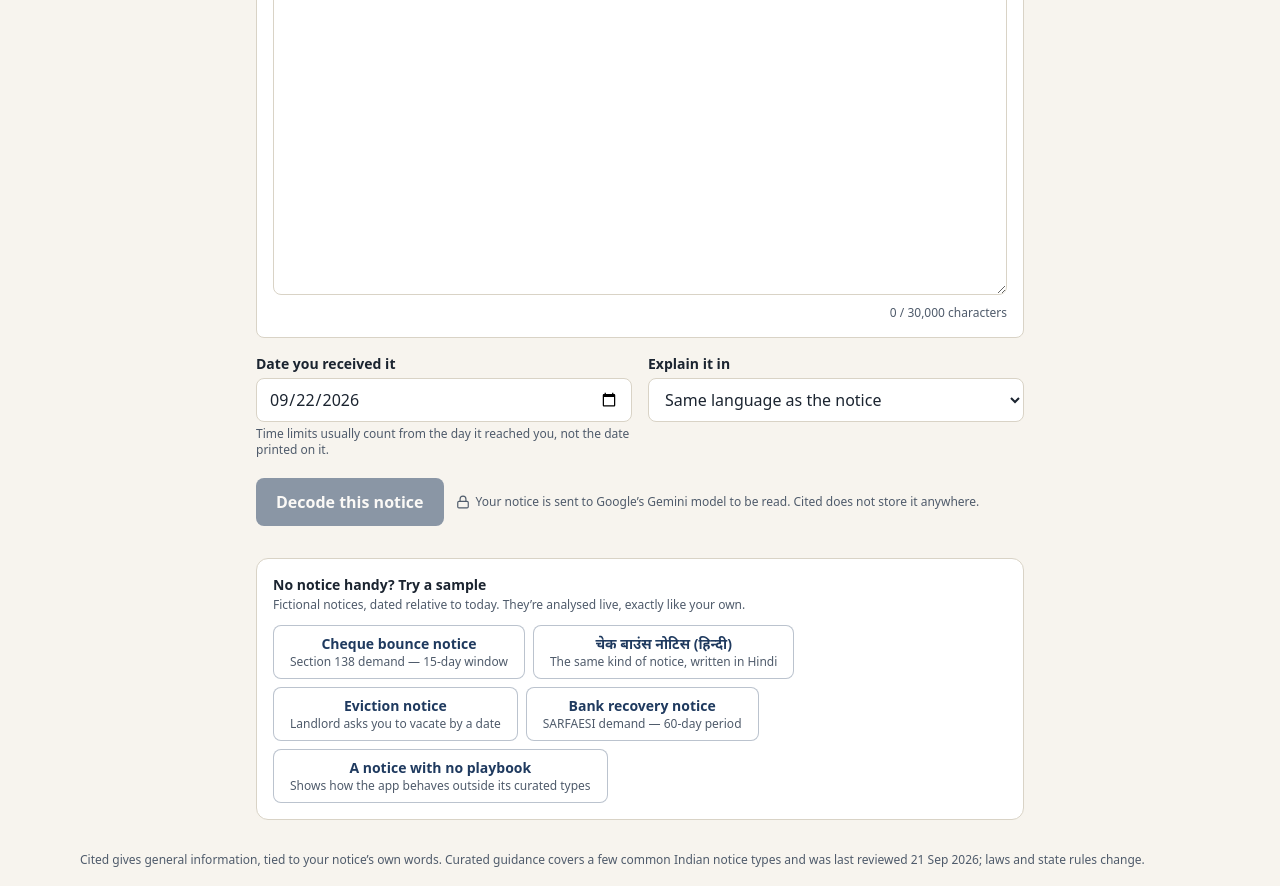
Test: Ask about this notice › enables Ask only for a real question, and submits on Enter
The width and height of the screenshot is (1280, 886).
(page scrolled)
Click the button "Cheque bounce notice Section 138 demand — 15-day window" at (399, 652), box [273, 625, 525, 679]
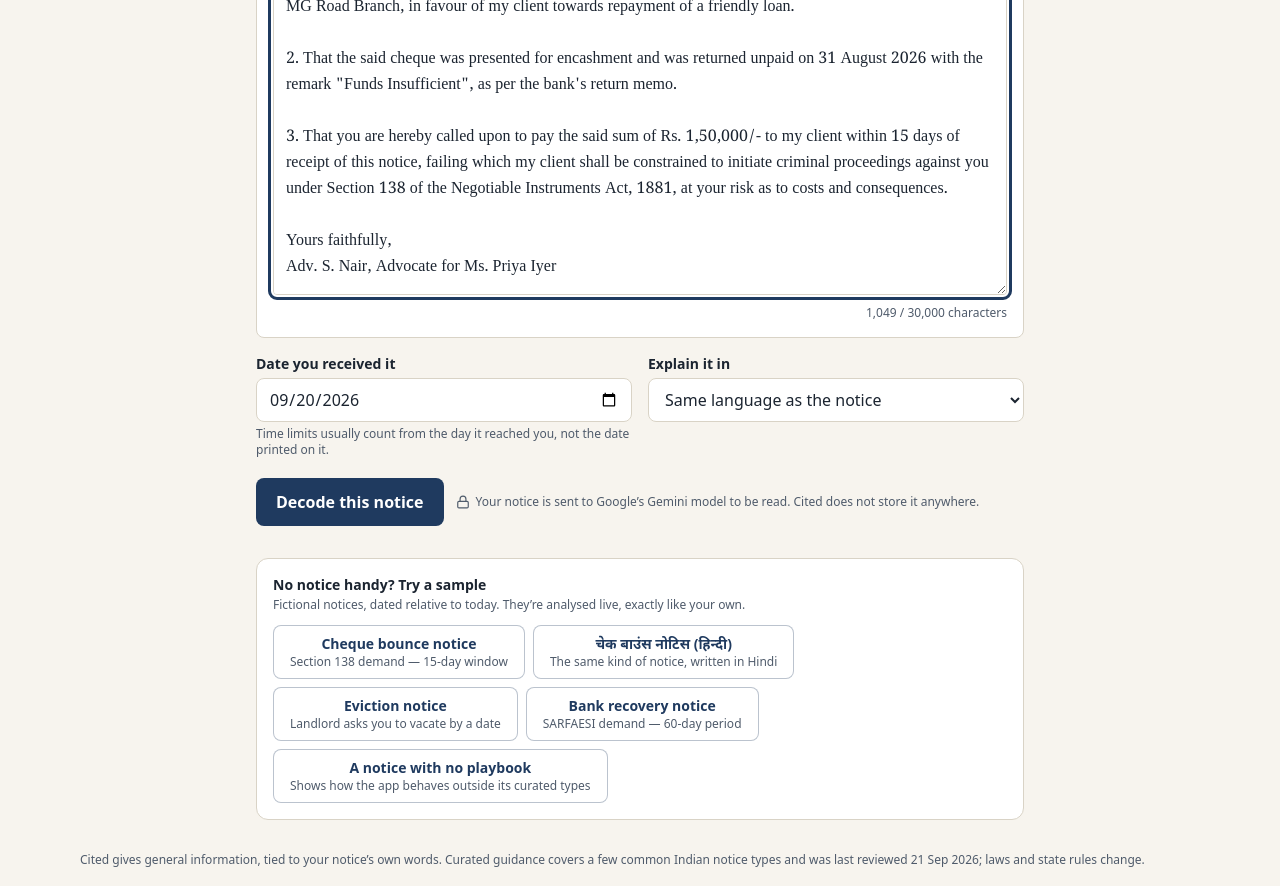
Click the button "Decode this notice" at (350, 502), box [256, 478, 444, 526]
(page scrolled)
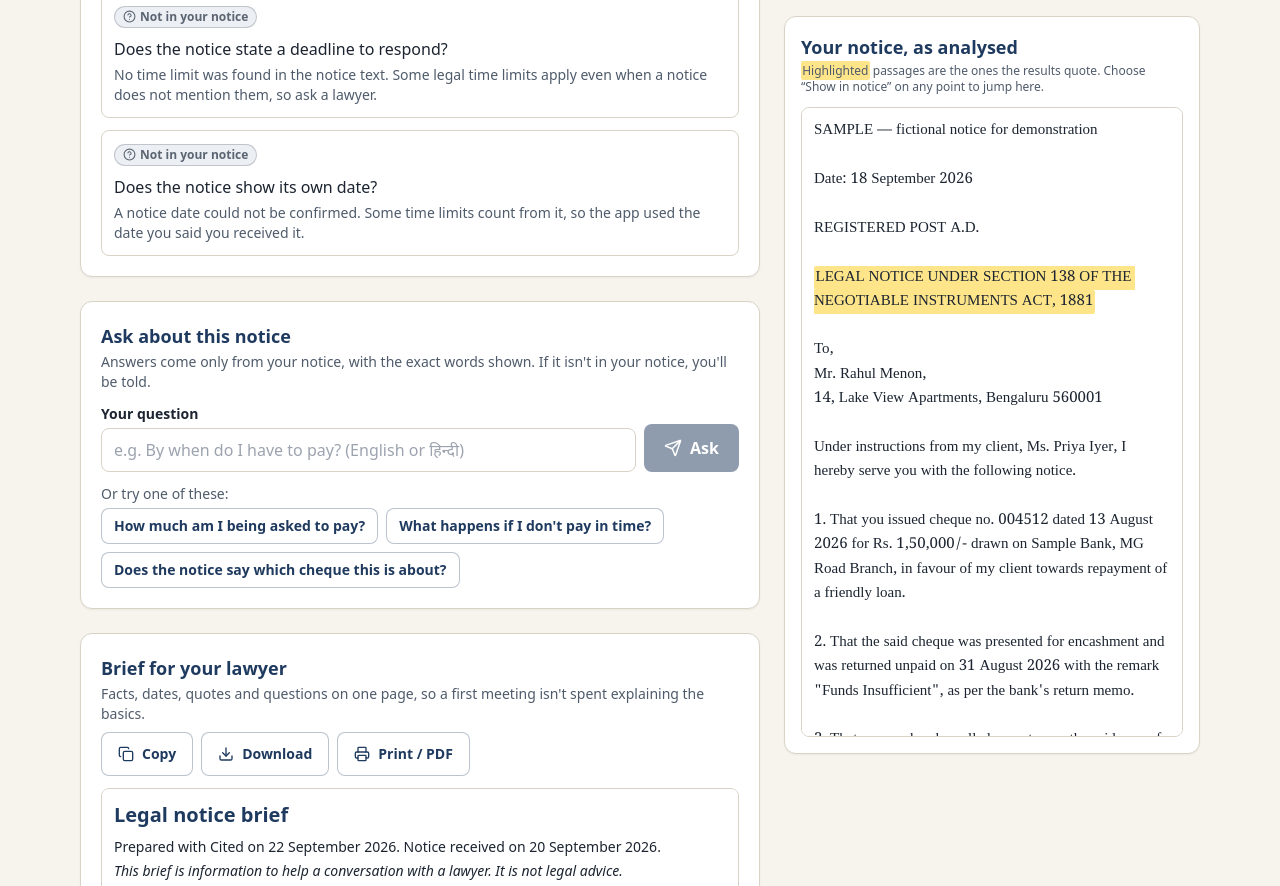
Type "hi" into the field labelled "Your question" at (369, 450), box [101, 428, 636, 472]
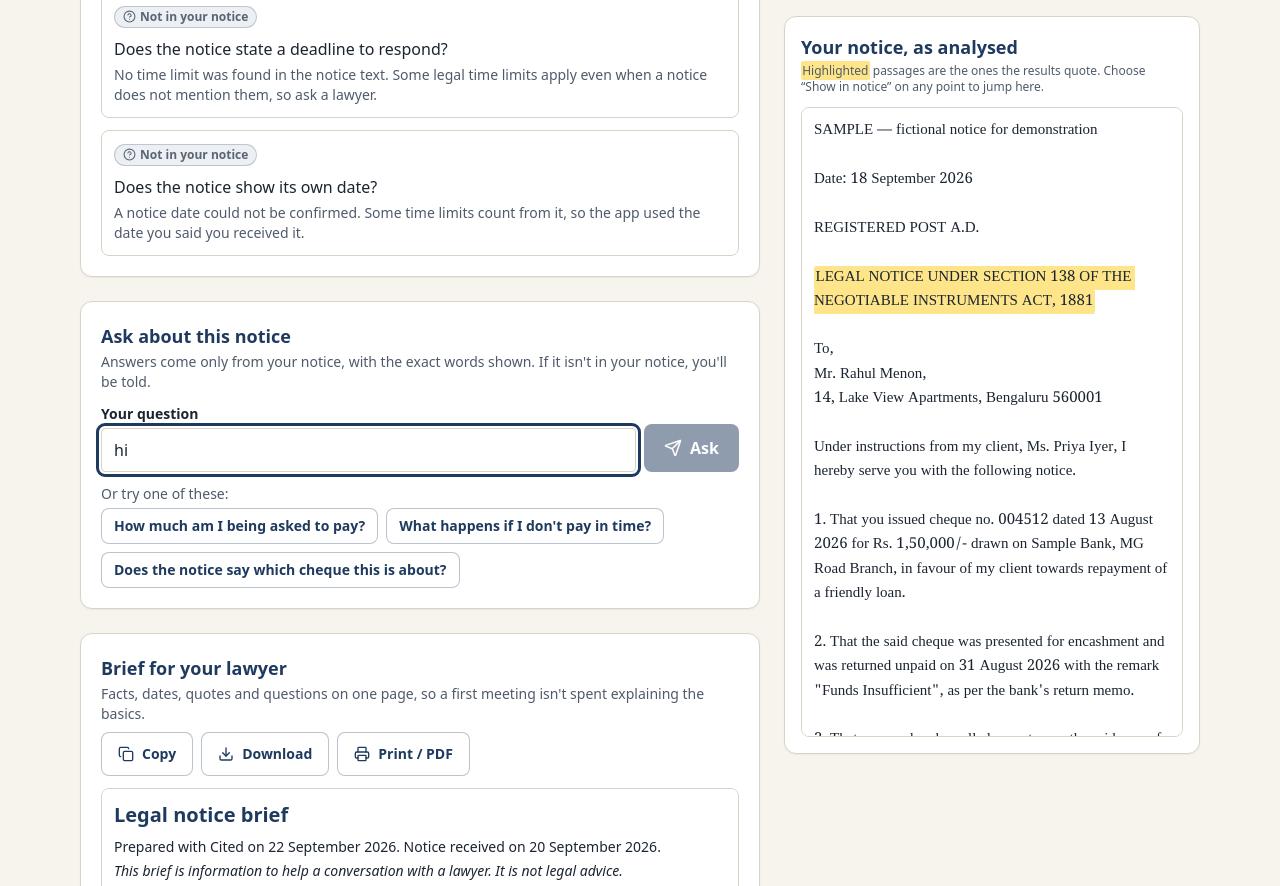
Expected: the button "Ask" is disabled, [644, 424, 739, 472]
Type "w much?" into the field labelled "Your question" at (369, 450), box [101, 428, 636, 472]
Then press Enter
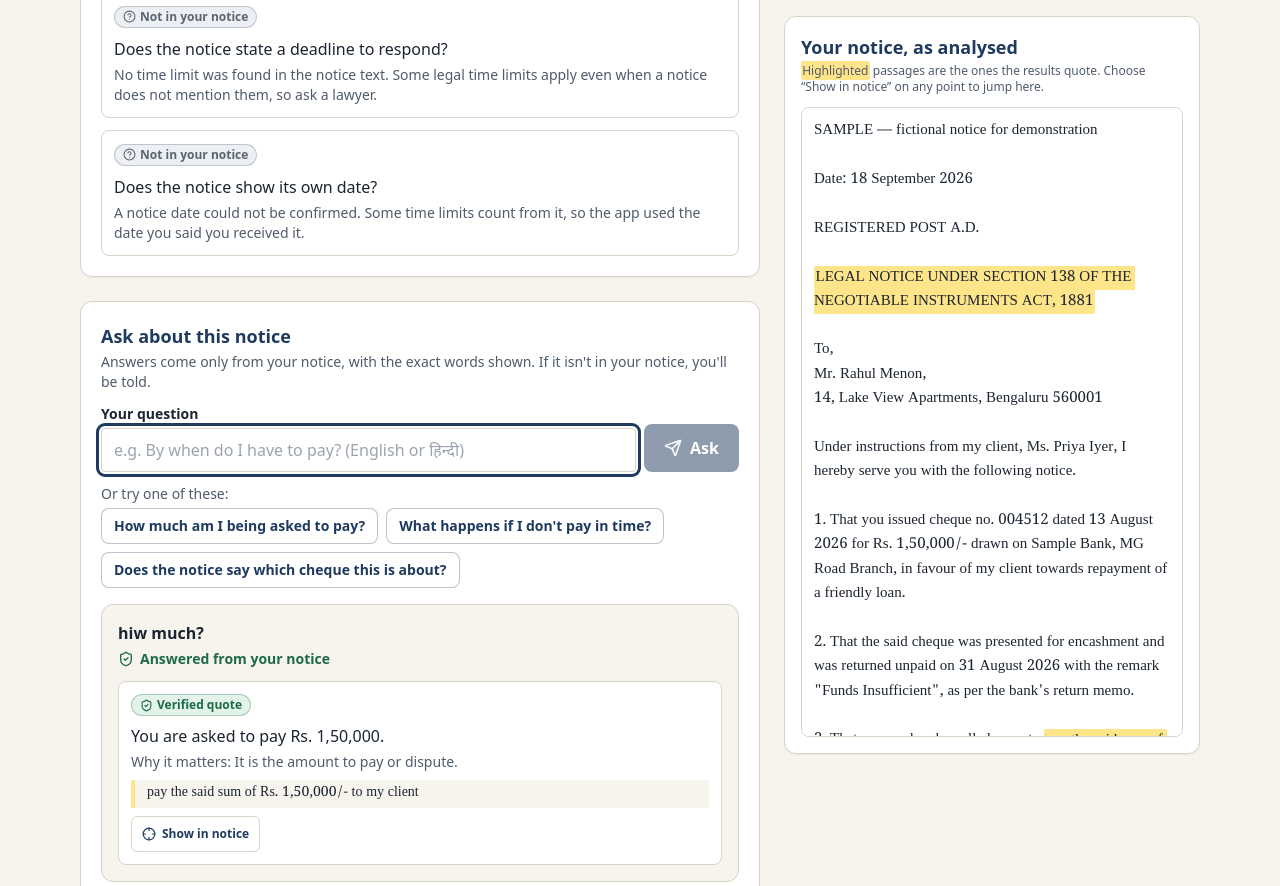
Expected: the heading "hiw much?" is shown, [118, 622, 204, 644]
